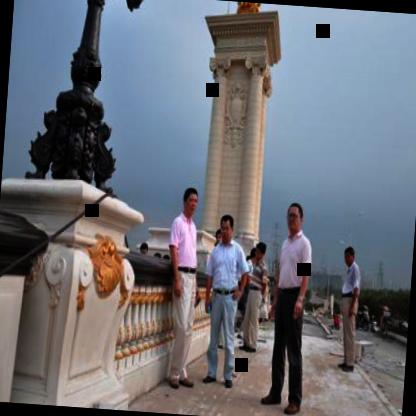head: (180, 180, 201, 222), (284, 197, 307, 235), (218, 213, 236, 243), (340, 240, 358, 268), (254, 240, 268, 265)
